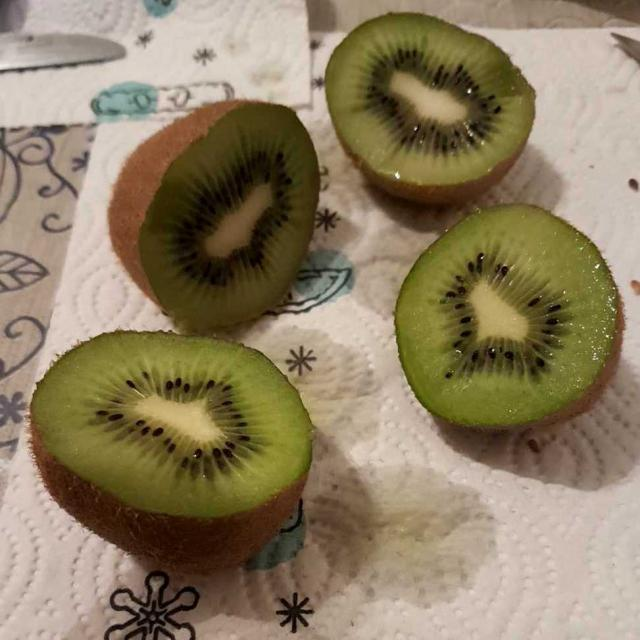kiwi: (34, 24, 622, 576)
